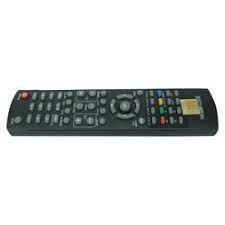remote control: (8, 74, 222, 147)
